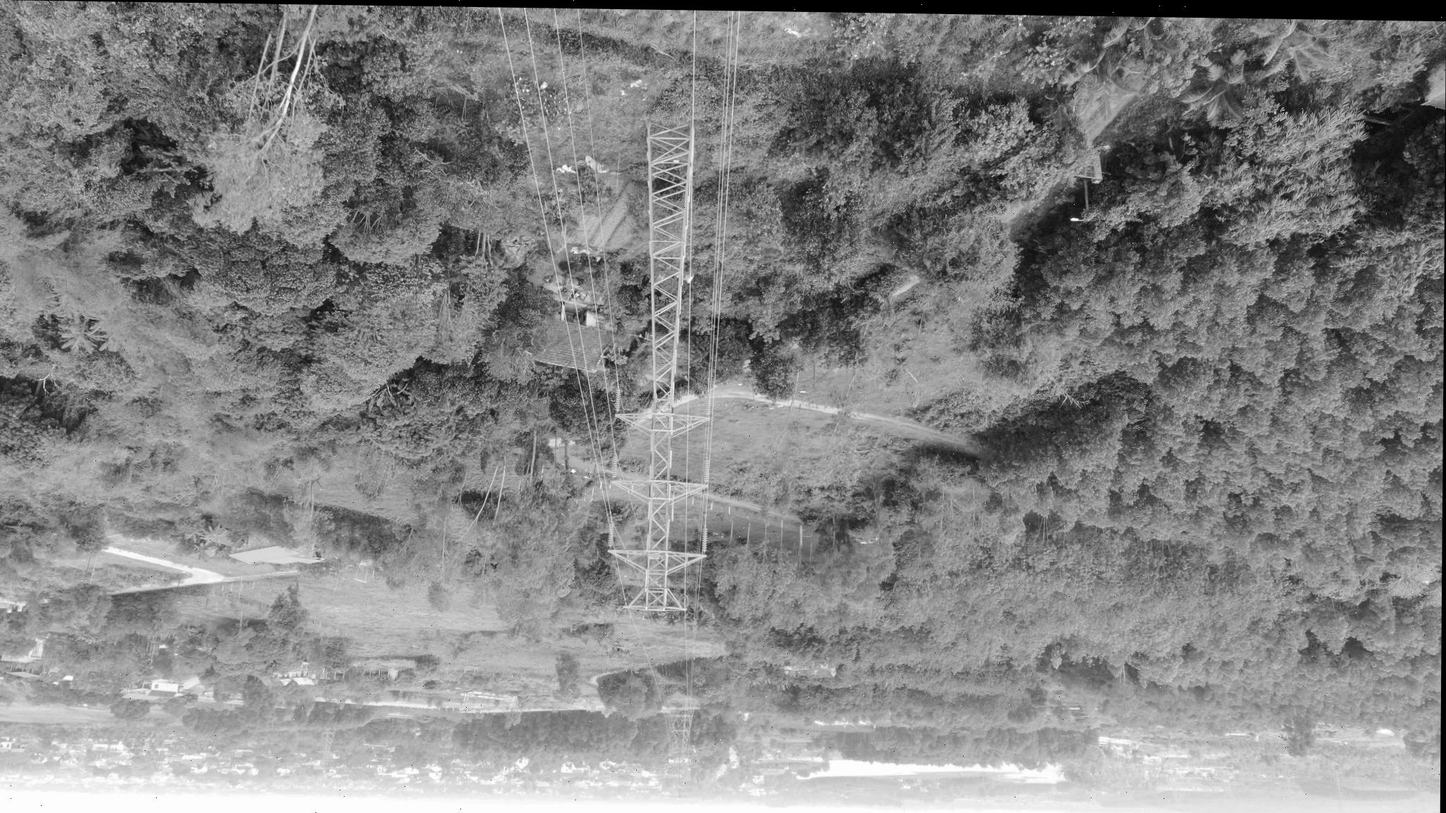tower: (601, 112, 713, 625)
